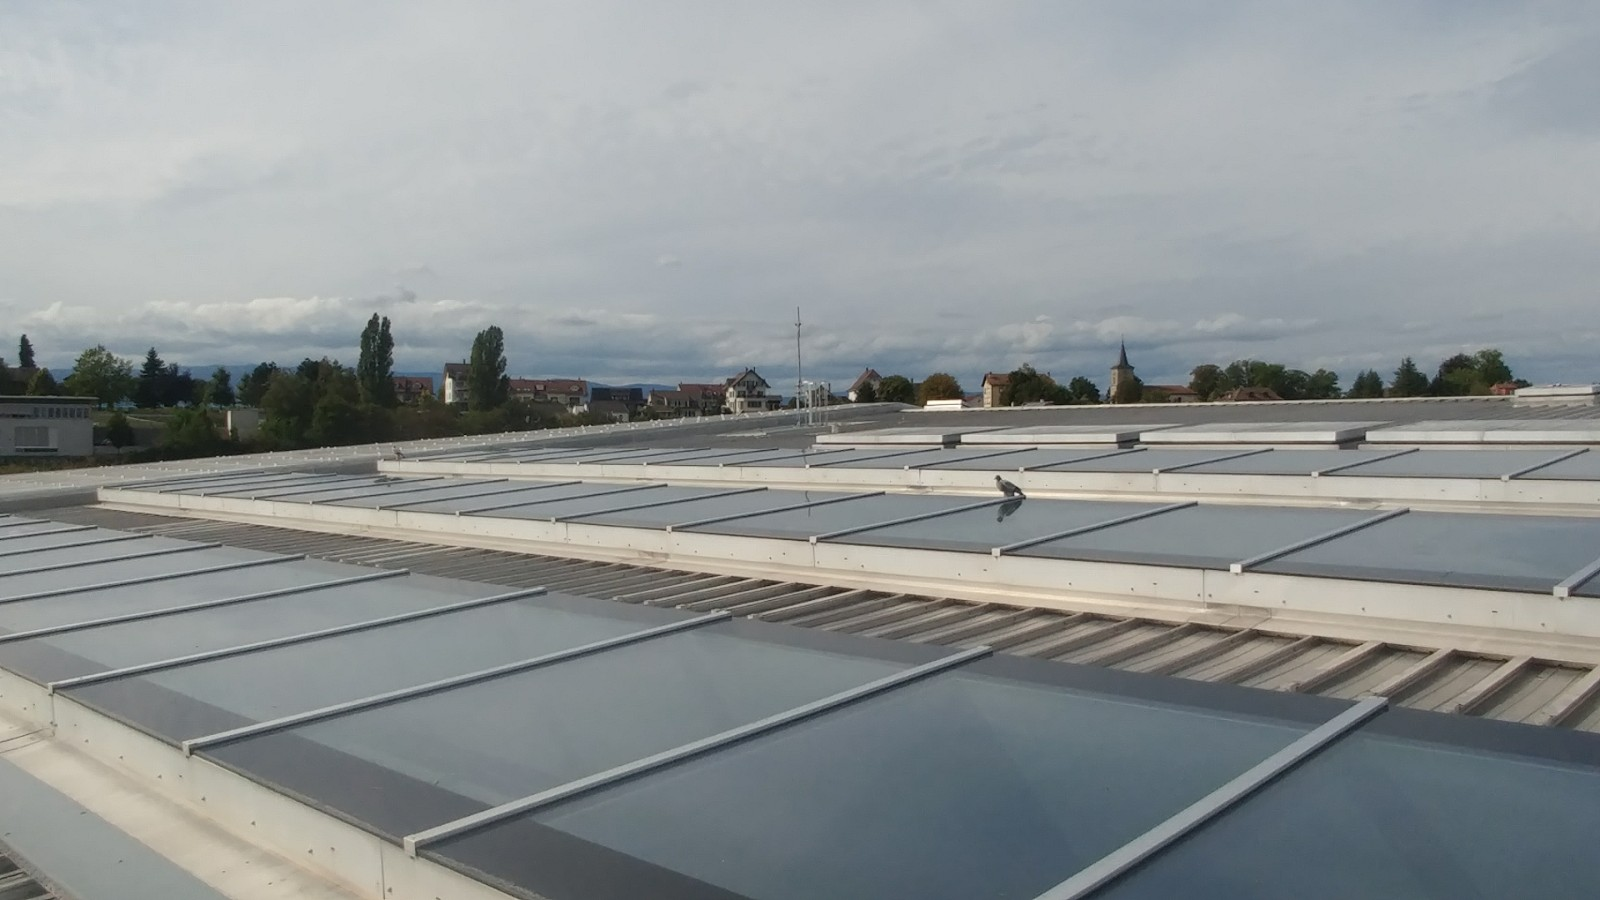Pigeon: (988, 474, 1027, 497)
